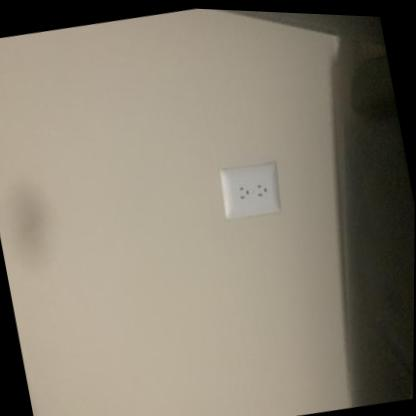OUTLET: (217, 157, 284, 225)
